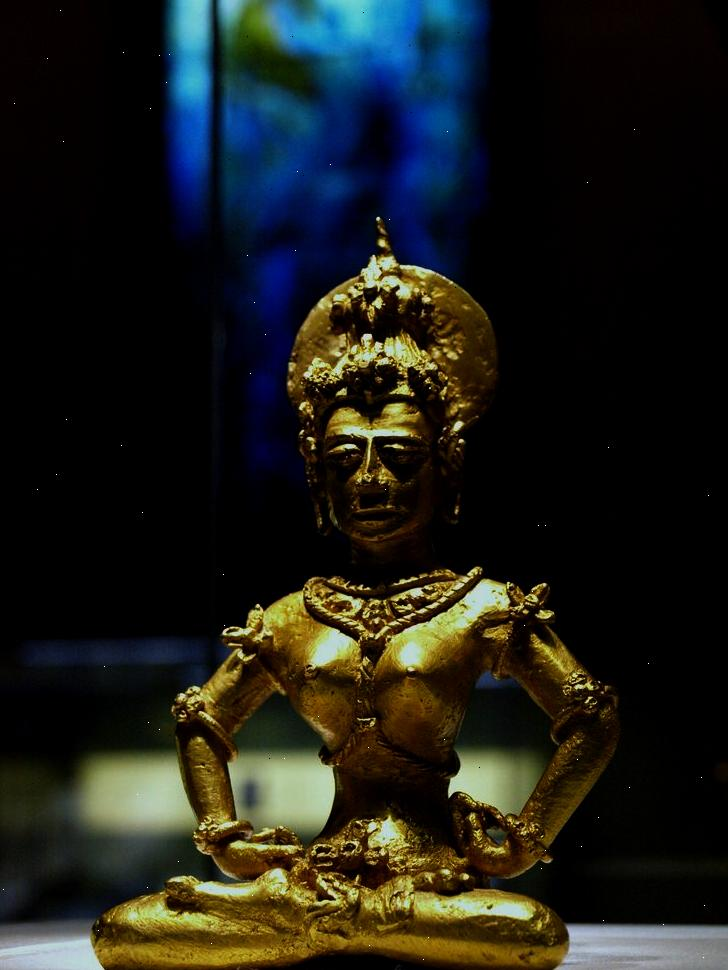golden_tara_of_agusan: (89, 214, 624, 970)
